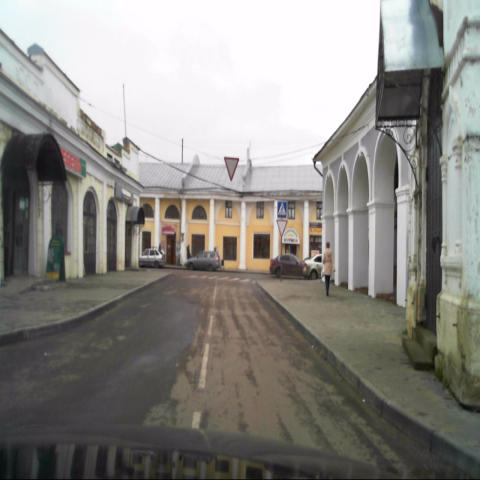2_4: (223, 156, 239, 183)
